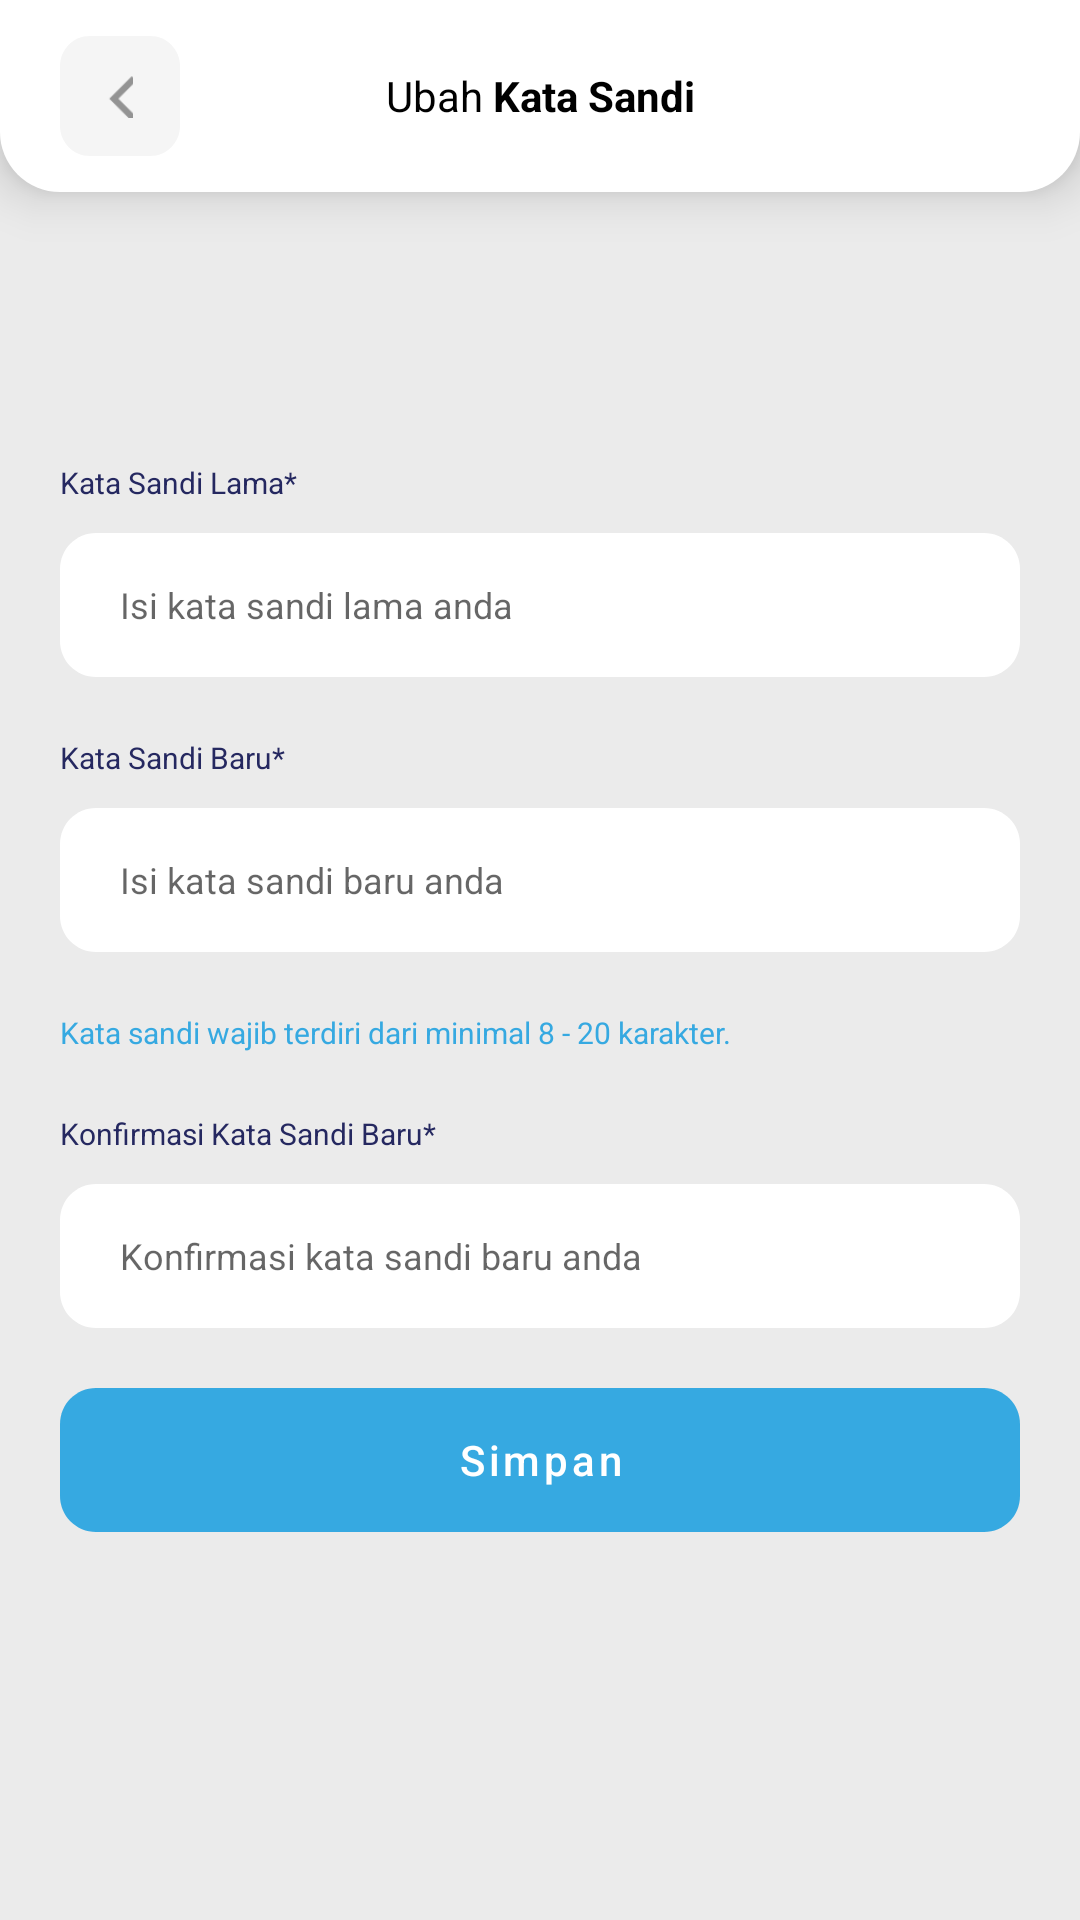

Named icons in this screenshot (1080px×1920px) and their centers, (x=x, y=y):
back: (x=121, y=97)
